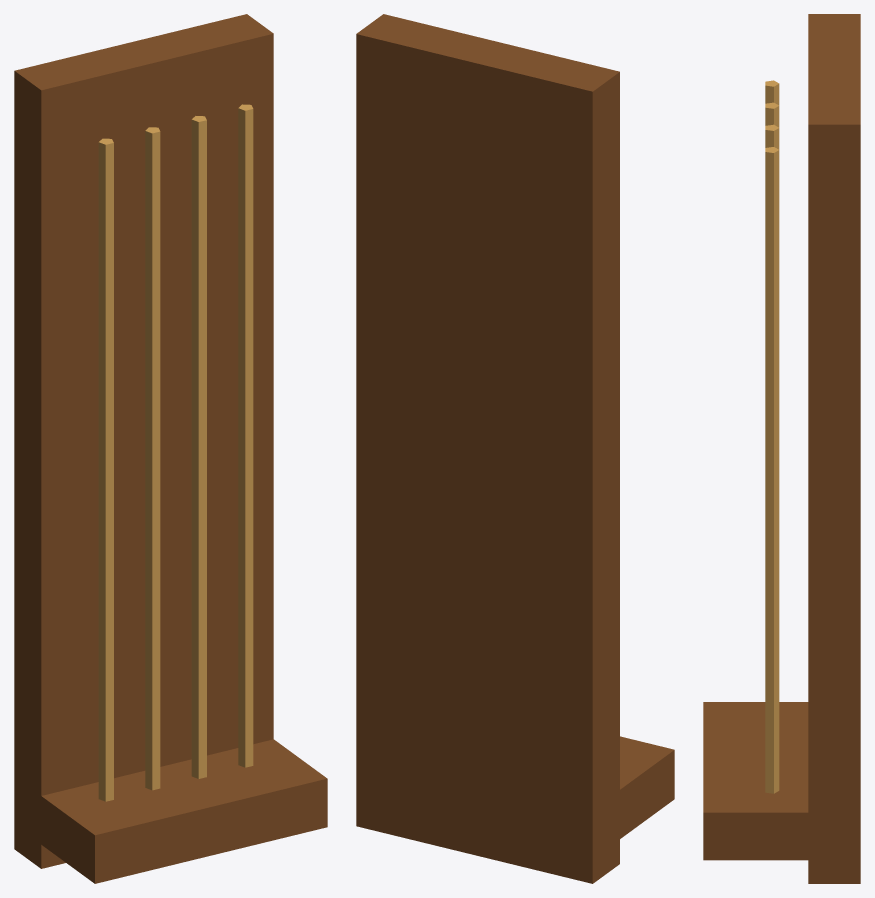
Rendered from cue_rack.glb.
3 views of the same model, side by side, from view 1: azimuth 30°, elevation 25°; view 2: azimuth 150°, elevation 25°; view 3: azimuth 270°, elevation 25° (orthographic). The views are drawn at different scales.
Parts seen in each view (by area): view 1: cue_rack; view 2: cue_rack; view 3: cue_rack.
Boxes of the visible parts, x1,y1,x2,y2 form: cue_rack: [14, 14, 327, 883]; cue_rack: [356, 14, 674, 883]; cue_rack: [703, 14, 860, 883].
Size of the model in its own units: 0.5 by 1.6 by 0.3.
